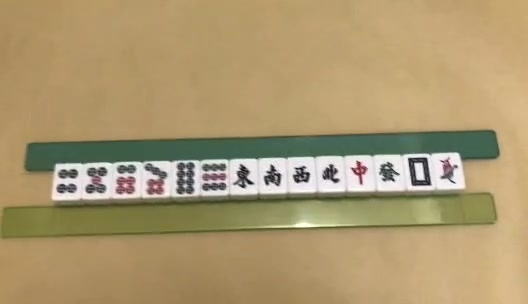1s: (440, 157, 459, 184)
1z: (233, 164, 254, 189)
2z: (263, 165, 283, 186)
3z: (293, 166, 313, 185)
4p: (57, 167, 79, 193)
4z: (321, 165, 341, 185)
5p: (85, 167, 107, 196)
5z: (409, 156, 430, 186)
6p: (116, 165, 139, 197)
6z: (379, 161, 400, 182)
7p: (145, 164, 167, 195)
7z: (351, 160, 369, 185)
8p: (178, 161, 197, 195)
9p: (201, 161, 228, 196)
